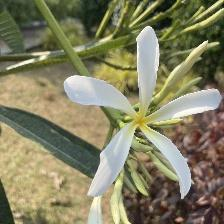champaka: (62, 26, 222, 206)
